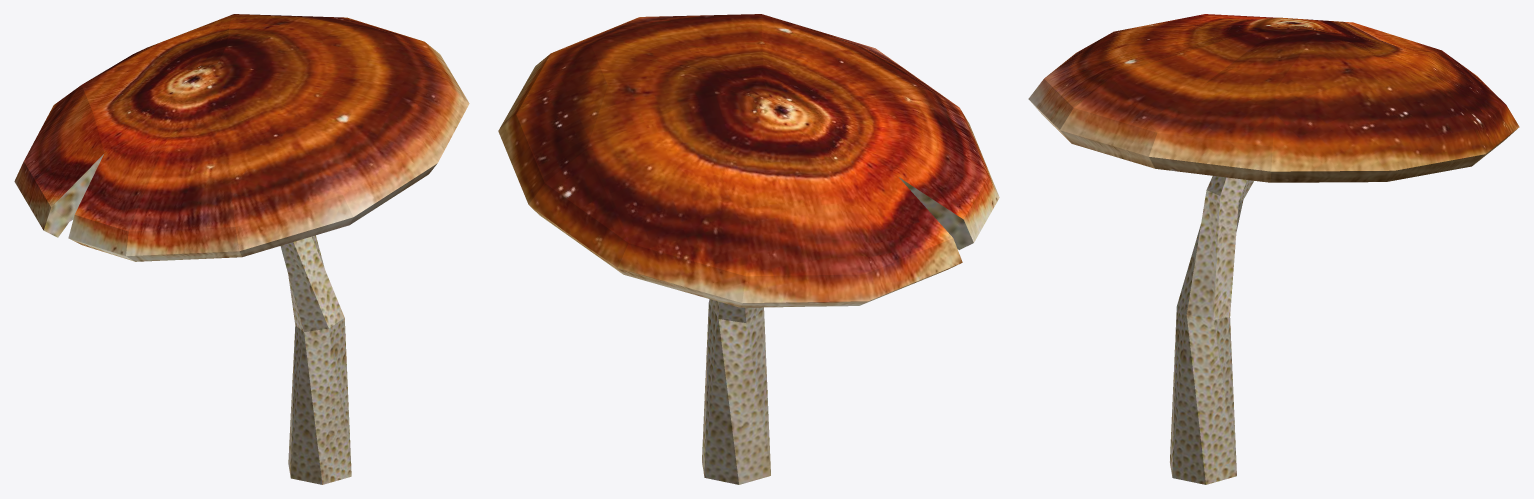
File: fungo_3.fbx
3 views of the same model, side by side, from view 1: azimuth 30°, elevation 25°; view 2: azimuth 150°, elevation 25°; view 3: azimuth 270°, elevation 25° (orthographic). The views are drawn at different scales.
Visible parts, largest first — view 1: fungo_3; view 2: fungo_3; view 3: fungo_3.
Boxes of the visible parts, bbox=[...] form: fungo_3: bbox=[14, 14, 469, 484]; fungo_3: bbox=[498, 14, 999, 484]; fungo_3: bbox=[1028, 14, 1519, 484].
Size of the model in its own units: 19.06 by 18.32 by 19.4.
